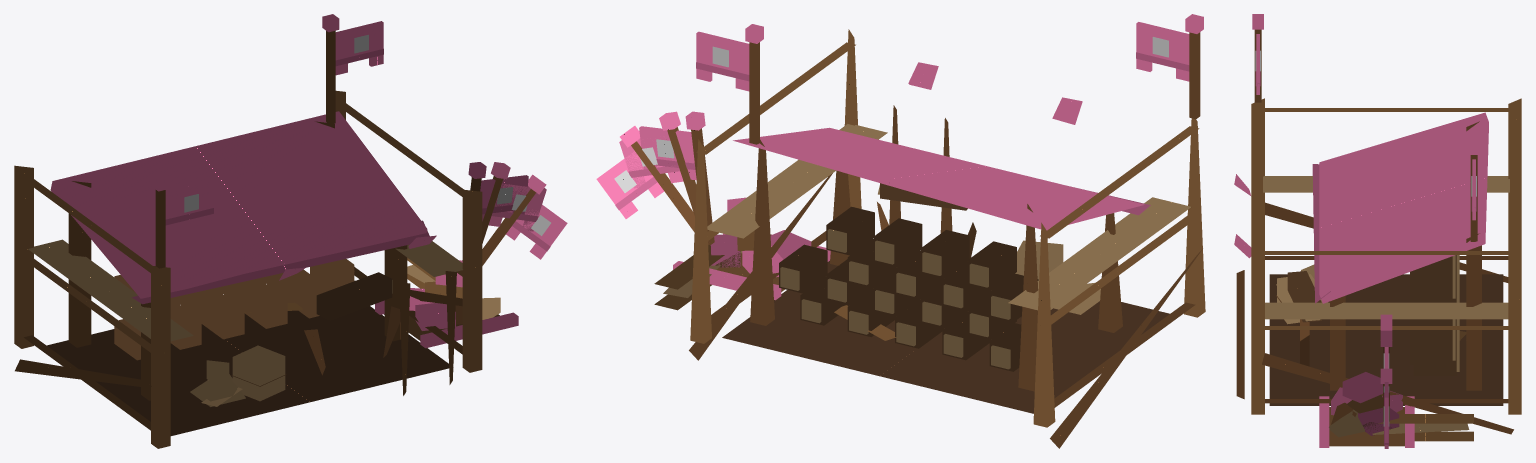
The model's file is opossum-producer_lod1.glb.
The picture shows the model from 3 angles, left to right: view 1: azimuth 30°, elevation 25°; view 2: azimuth 150°, elevation 25°; view 3: azimuth 270°, elevation 25°; orthographic projection. The views are drawn at different scales.
Visible parts, largest first — view 1: built-mesh, scaffold-mesh, dismantle-50-mesh, dismantle-75-mesh, dismantle-25-mesh, scaffold-banner, banner, dismantle-25-banner, flag-pole, dismantle-50-banner, scaffold-flag-pole, dismantle-75-banner (+2 smaller); view 2: scaffold-mesh, built-mesh, dismantle-50-mesh, dismantle-75-mesh, dismantle-25-mesh, banner, scaffold-banner, dismantle-25-banner, dismantle-75-banner, flag-pole, scaffold-flag-pole, dismantle-25-flag-pole (+3 smaller); view 3: built-mesh, scaffold-mesh, dismantle-50-mesh, dismantle-25-mesh, dismantle-75-mesh, flag-pole, scaffold-flag-pole, banner, scaffold-banner, dismantle-25-banner.
Part boxes in pixels (x1,y1,x2,y2): built-mesh: (50,111,429,399); scaffold-mesh: (14,90,482,448); dismantle-50-mesh: (47,300,518,435); dismantle-75-mesh: (68,243,518,400); dismantle-25-mesh: (201,260,518,406); scaffold-banner: (165,180,213,234); banner: (335,21,383,75); dismantle-25-banner: (506,204,567,259); flag-pole: (322,14,339,123); dismantle-50-banner: (488,183,546,231); scaffold-flag-pole: (152,173,169,268); dismantle-75-banner: (480,175,528,221); scaffold-mesh: (654,29,1205,448); built-mesh: (733,127,1150,386); dismantle-50-mesh: (673,233,1169,413); dismantle-75-mesh: (673,173,1122,390); dismantle-25-mesh: (673,197,1100,384); banner: (696,31,749,91); scaffold-banner: (1136,22,1189,81); dismantle-25-banner: (596,151,664,218); dismantle-75-banner: (639,126,696,180); flag-pole: (745,24,763,144); scaffold-flag-pole: (1185,14,1203,118); dismantle-25-flag-pole: (620,126,708,243); built-mesh: (1276,112,1488,389); scaffold-mesh: (1234,98,1521,441); dismantle-50-mesh: (1269,274,1503,447); dismantle-25-mesh: (1276,284,1466,447); dismantle-75-mesh: (1300,255,1459,447); flag-pole: (1468,139,1479,241); scaffold-flag-pole: (1252,14,1263,102); banner: (1471,159,1476,220); scaffold-banner: (1255,34,1260,94); dismantle-25-banner: (1383,397,1389,448).
Size of the model in its own units: 2.71 by 1.58 by 1.48.
